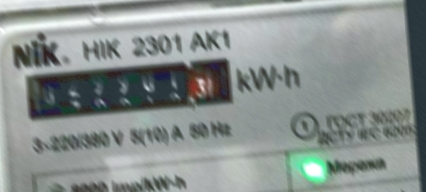0: (138, 68, 155, 95), (38, 83, 55, 106)
1: (165, 66, 179, 91)
2: (64, 76, 81, 99)
3: (191, 76, 208, 100)
9: (115, 73, 128, 97), (90, 74, 103, 96)
screen: (16, 50, 241, 131)
